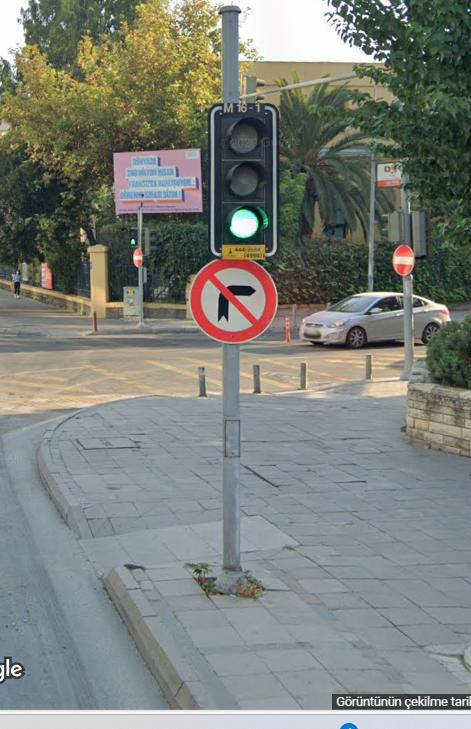greenlight: (214, 100, 275, 258)
rightturnsareforbidden: (191, 263, 278, 342)
